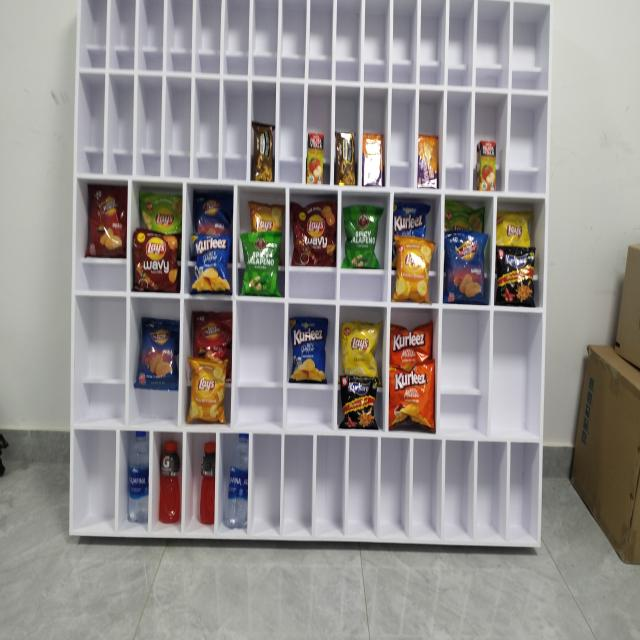Plastic: (290, 197, 336, 267), (85, 182, 126, 260), (134, 318, 178, 390), (445, 231, 488, 304), (340, 203, 384, 271), (388, 363, 434, 428), (132, 232, 180, 292), (289, 317, 329, 384), (240, 232, 283, 294), (187, 358, 227, 424), (393, 238, 432, 304), (191, 234, 231, 293), (340, 318, 382, 374), (226, 433, 250, 529), (496, 246, 535, 305), (126, 431, 148, 522), (341, 376, 378, 429), (192, 310, 232, 358), (159, 439, 181, 523), (389, 321, 432, 363), (140, 192, 182, 230), (193, 192, 232, 232), (250, 119, 274, 182), (393, 196, 430, 235), (496, 208, 535, 244), (198, 440, 214, 526), (334, 130, 358, 184), (417, 133, 440, 189), (362, 132, 385, 186), (446, 200, 486, 231), (248, 198, 284, 232), (476, 138, 496, 191), (306, 133, 326, 185)
